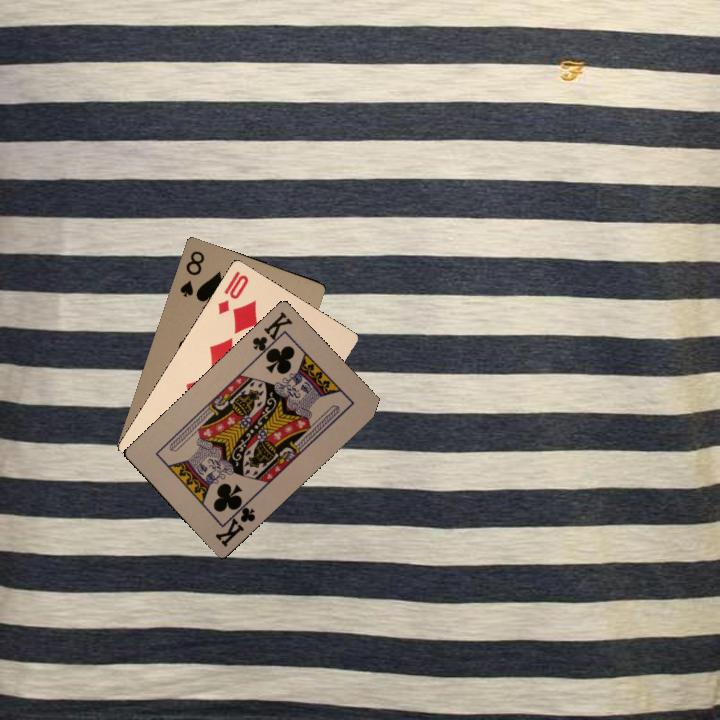10d: (214, 267, 251, 317)
8s: (176, 247, 207, 299)
Kc: (248, 307, 295, 360), (211, 497, 258, 550)
